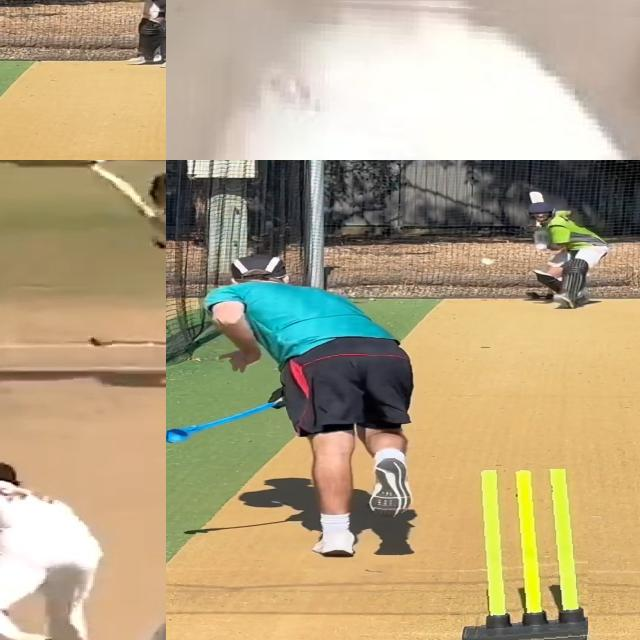Cricket ball: (206, 0, 640, 160), (84, 334, 112, 347), (476, 255, 499, 267)
Stumps: (463, 469, 588, 640)
